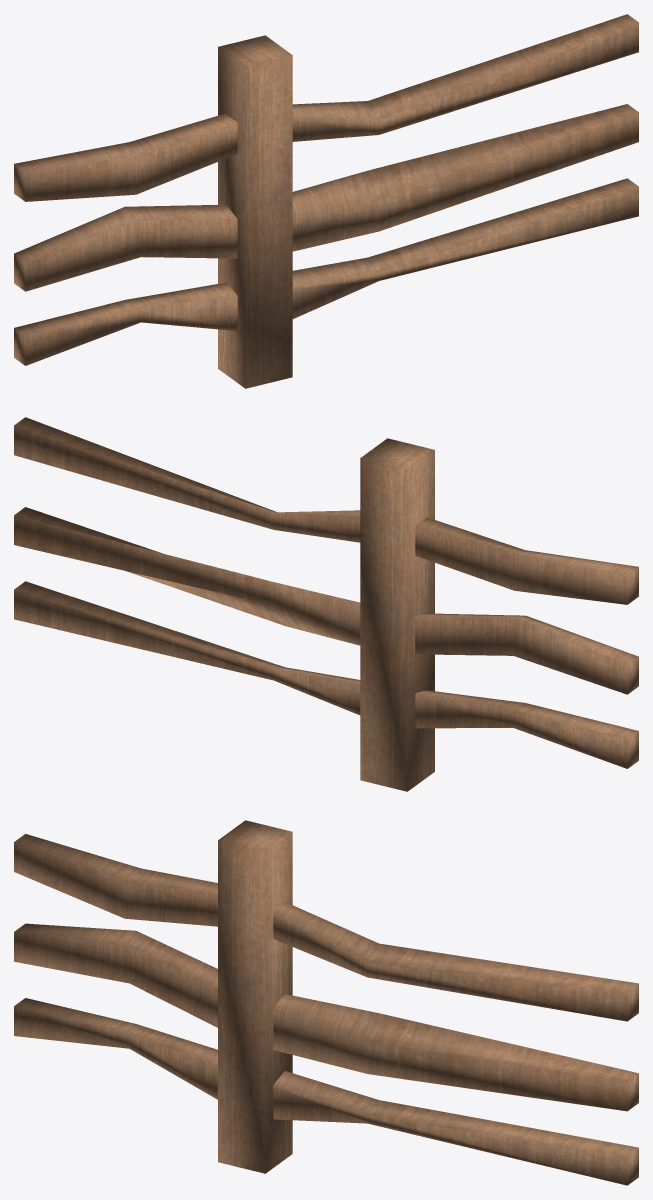
3 renders of one model, top to bottom at view 1: azimuth 30°, elevation 25°; view 2: azimuth 150°, elevation 25°; view 3: azimuth 330°, elevation 25°, orthographic.
Visible parts, largest first — view 1: Cube143_Wood_02001_0; view 2: Cube143_Wood_02001_0; view 3: Cube143_Wood_02001_0.
Boxes of the visible parts, left/top/right/bottom form: Cube143_Wood_02001_0: left=14, top=14, right=638, bottom=388; Cube143_Wood_02001_0: left=14, top=417, right=638, bottom=791; Cube143_Wood_02001_0: left=14, top=820, right=638, bottom=1185.
Bounding box in the file's own units: 2.59 × 1.3 × 0.2.
Materials: 1 (1 with a texture image).
